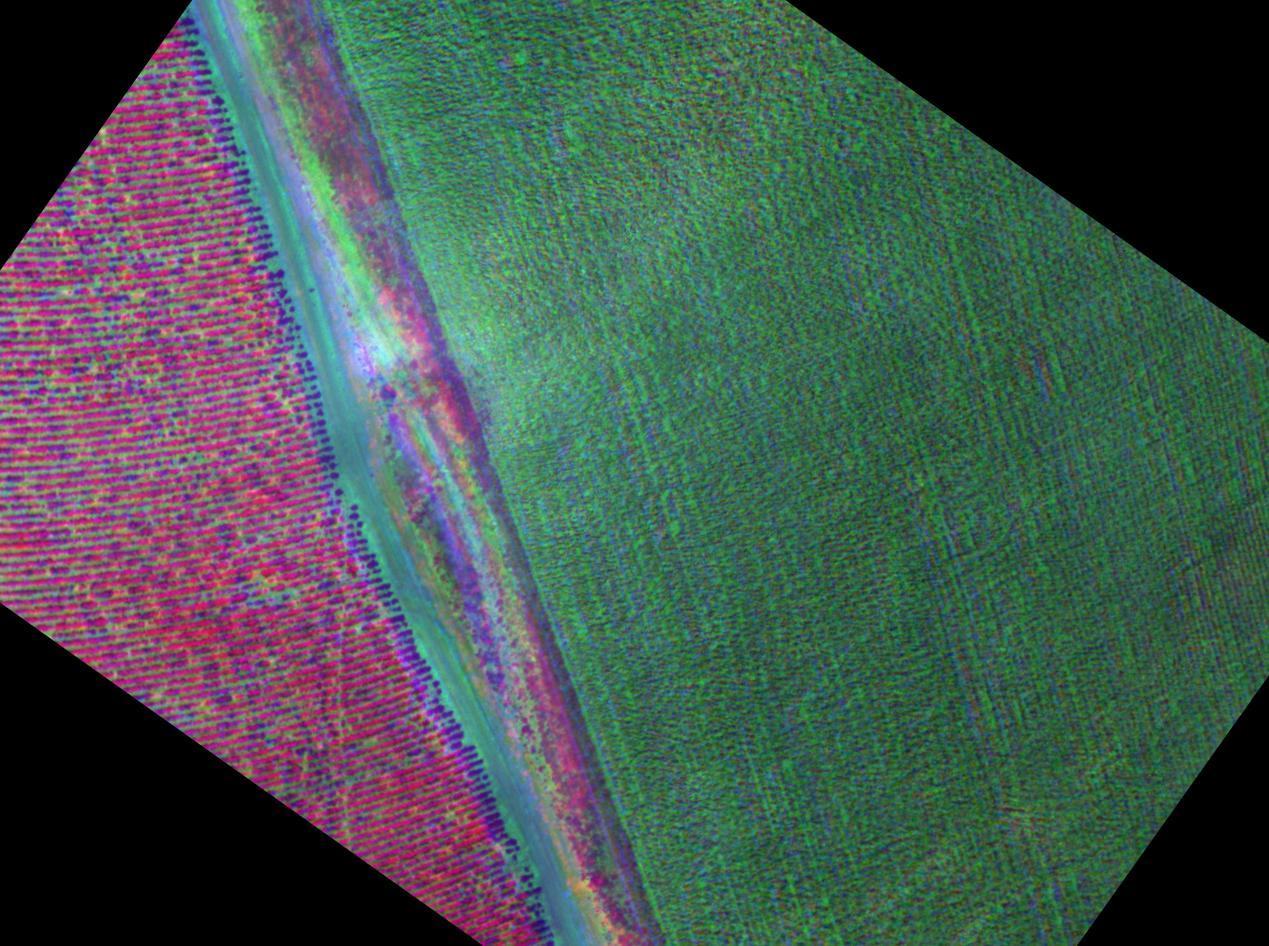dc: (221, 518, 314, 601), (141, 350, 209, 463), (11, 320, 91, 414), (68, 218, 154, 299), (0, 468, 70, 561)
